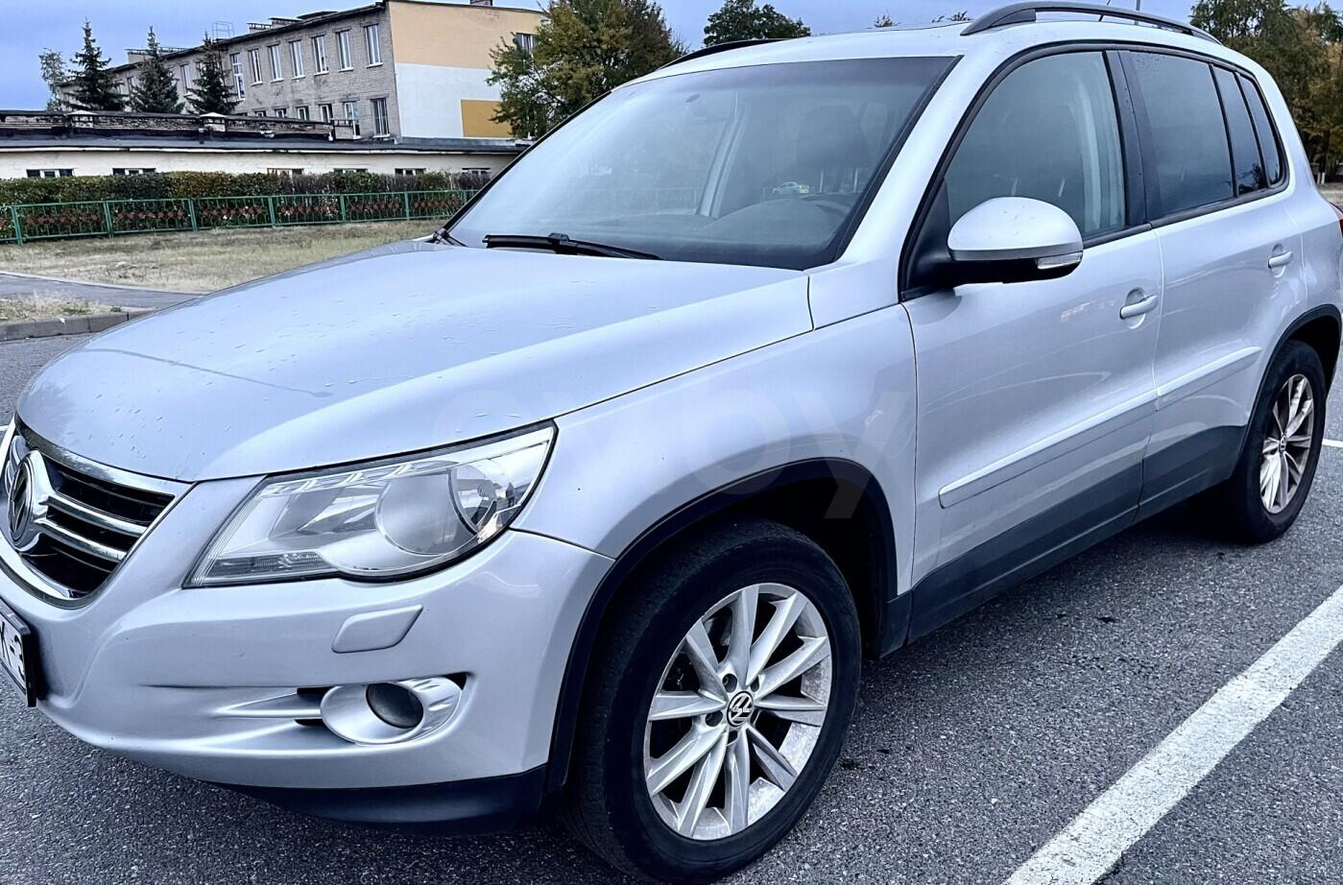Tiguan_2007-2011: (0, 8, 1343, 885)
